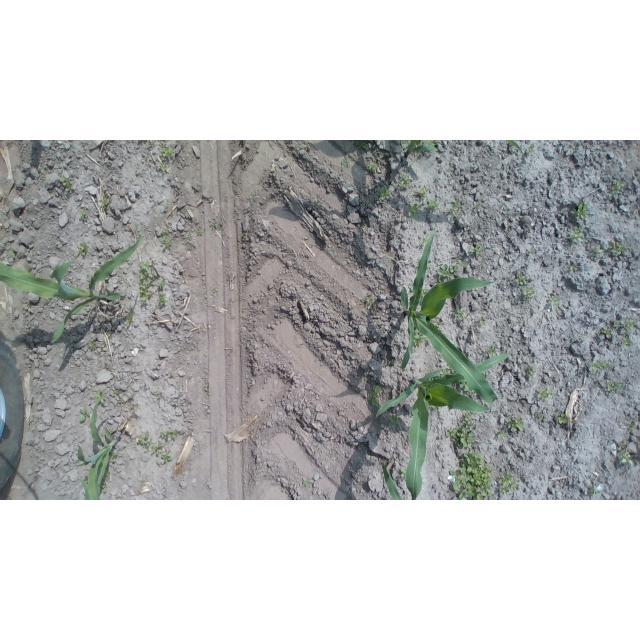Maize: (374, 353, 513, 500), (0, 226, 152, 346), (399, 230, 501, 408), (76, 385, 125, 500)
Weeds: (448, 450, 496, 500), (442, 412, 480, 449), (437, 259, 470, 284), (137, 261, 155, 300), (497, 416, 525, 439), (505, 140, 539, 158), (496, 470, 520, 495), (612, 317, 639, 335), (583, 481, 607, 500), (569, 202, 591, 222), (368, 384, 385, 408), (609, 238, 629, 258), (564, 226, 585, 245), (160, 226, 175, 251), (617, 447, 634, 468), (447, 199, 463, 221), (597, 379, 622, 393), (590, 359, 613, 374), (135, 433, 155, 450), (365, 295, 381, 316), (158, 429, 182, 443), (555, 412, 573, 430), (609, 180, 626, 197), (413, 331, 430, 348), (189, 218, 204, 237), (99, 470, 110, 495), (75, 408, 91, 425), (375, 185, 391, 202), (535, 387, 553, 402), (519, 286, 537, 301), (451, 309, 469, 324), (467, 245, 485, 260), (485, 342, 501, 358), (158, 146, 174, 162), (617, 335, 634, 350), (180, 235, 194, 253), (549, 294, 564, 310), (406, 202, 422, 217), (397, 174, 412, 190), (208, 216, 223, 232), (99, 196, 113, 213), (599, 327, 614, 342), (60, 177, 75, 192), (388, 414, 402, 429), (524, 367, 538, 382), (157, 200, 171, 215), (76, 242, 89, 258), (94, 391, 107, 407), (157, 293, 168, 311), (152, 444, 166, 458), (592, 247, 608, 259), (385, 355, 398, 369), (415, 187, 430, 199), (514, 273, 527, 286), (477, 313, 489, 327), (368, 161, 380, 175), (155, 162, 169, 174), (340, 156, 352, 169), (427, 199, 440, 211), (77, 210, 88, 224), (123, 311, 134, 325), (157, 279, 168, 293), (356, 141, 371, 151), (86, 340, 98, 352), (245, 193, 258, 204), (400, 467, 409, 482), (161, 453, 173, 464), (300, 477, 312, 487), (154, 388, 164, 400), (629, 423, 637, 437), (473, 202, 483, 213), (568, 260, 577, 272), (534, 409, 542, 419), (210, 285, 218, 295), (240, 234, 249, 242), (112, 388, 121, 396), (127, 393, 135, 401)
